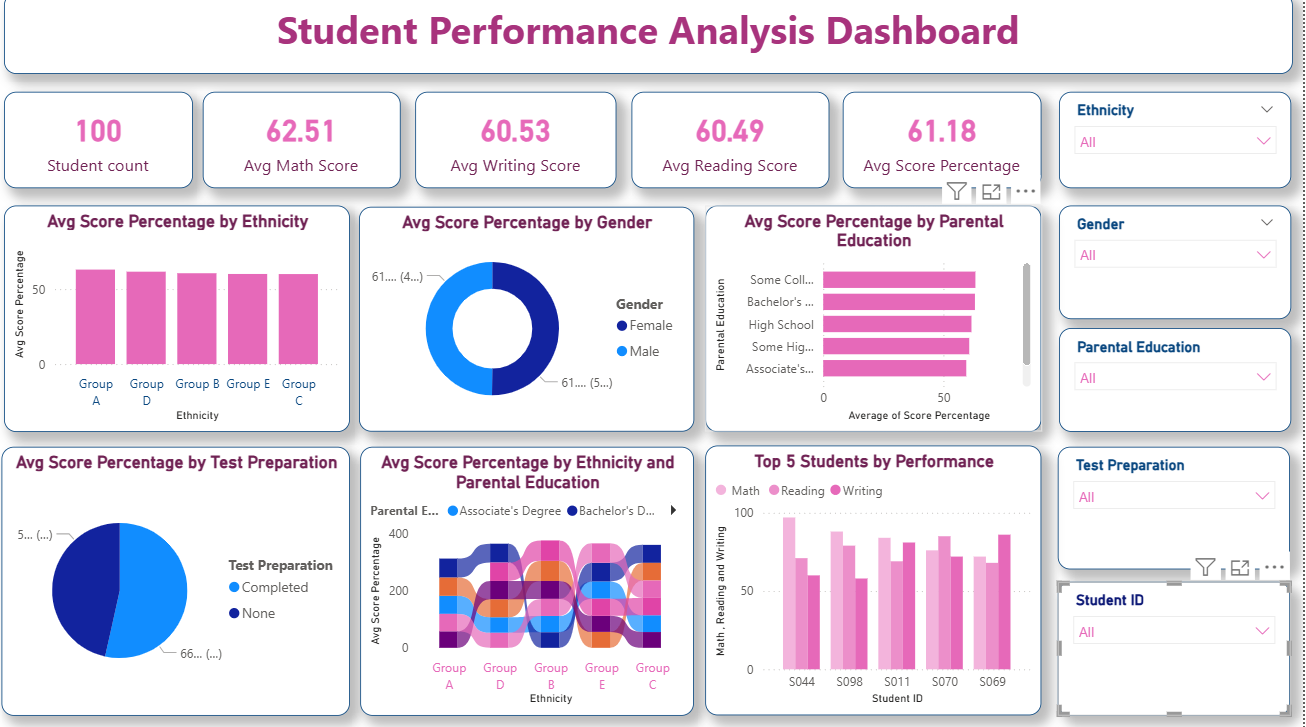

What the dashboard file says about the page in this screenshot:
{"tool":"powerbi","page":{"name":"Page 1","canvas":[1280,720],"ordinal":0},"visuals":[{"type":"textbox","box":[9.6,0,1261.1,79.6],"z":0},{"type":"card","fields":{"Values":["CountNonNull(marks.Student ID)"]},"box":[9.8,96.6,184.6,94.2],"z":1000},{"type":"card","fields":{"Values":["Avg(marks.Math Score)"]},"box":[204.2,96.6,193.2,94.2],"z":2000},{"type":"card","fields":{"Values":["Avg(marks.Writing Score)"]},"box":[412.1,96.6,196.9,94.2],"z":3000},{"type":"card","fields":{"Values":["Avg(marks.Reading Score)"]},"box":[623.6,96.6,193.2,94.2],"z":4000},{"type":"card","fields":{"Values":["Avg(marks.Score Percentage)"]},"box":[830.3,96.6,194.4,94.2],"z":5000},{"type":"slicer","fields":{"Values":["marks.Ethnicity"]},"box":[1041.9,96.6,227.4,94.2],"z":6000},{"type":"slicer","fields":{"Values":["marks.Gender"]},"box":[1041.9,207.9,227.4,111.3],"z":7000},{"type":"slicer","fields":{"Values":["marks.Parental Education"]},"box":[1041.9,327.7,227.4,101.5],"z":9000},{"type":"columnChart","fields":{"Category":["marks.Ethnicity"],"Y":["Avg(marks.Score Percentage)"]},"box":[9.8,207.9,338.7,221.3],"z":10000},{"type":"donutChart","title":"Avg Score Percentage by Gender","fields":{"Category":["marks.Gender"],"Y":["Avg(marks.Score Percentage)"]},"box":[357.1,209.1,327.7,220.1],"z":11000},{"type":"clusteredBarChart","title":"Avg Score Percentage by Parental Education","fields":{"Category":["marks.Parental Education"],"Y":["Avg(marks.Score Percentage)"]},"box":[695.8,207.9,328.9,221.3],"z":12000},{"type":"pieChart","title":"Avg Score Percentage by Test Preparation","fields":{"Category":["marks.Test Preparation"],"Y":["Avg(marks.Score Percentage)"]},"box":[7.3,443.9,341.2,262.9],"z":13000},{"type":"ribbonChart","fields":{"Category":["marks.Ethnicity"],"Y":["Avg(marks.Score Percentage)"],"Series":["marks.Parental Education"]},"box":[358.3,443.9,326.5,262.9],"z":14000},{"type":"slicer","fields":{"Values":["marks.Test Preparation"]},"box":[1040.6,443.9,227.4,119.8],"z":15000},{"type":"clusteredColumnChart","title":"Top 5 Students by Performance","fields":{"Y":["Avg(marks.Math Score)","Avg(marks.Reading Score)","Avg(marks.Writing Score)"],"Category":["marks.Student ID"]},"box":[695.8,442.7,328.9,264.1],"z":16000},{"type":"slicer","fields":{"Values":["marks.Student ID"]},"box":[1040.6,576,227.4,130.8],"z":17000}]}

Visuals, with their boxes in screenshot pixels (x1, y1, x2, y2), scaled from the page's 1280x720 canvas onto the 1306x727 screenshot:
textbox: Rect(10, 0, 1297, 80)
card - CountNonNull(marks.Student ID): Rect(10, 98, 198, 193)
card - Avg(marks.Math Score): Rect(208, 98, 405, 193)
card - Avg(marks.Writing Score): Rect(420, 98, 621, 193)
card - Avg(marks.Reading Score): Rect(636, 98, 833, 193)
card - Avg(marks.Score Percentage): Rect(847, 98, 1046, 193)
slicer - marks.Ethnicity: Rect(1063, 98, 1295, 193)
slicer - marks.Gender: Rect(1063, 210, 1295, 322)
slicer - marks.Parental Education: Rect(1063, 331, 1295, 433)
columnChart - marks.Ethnicity x Avg(marks.Score Percentage): Rect(10, 210, 356, 433)
"Avg Score Percentage by Gender" donutChart: Rect(364, 211, 699, 433)
"Avg Score Percentage by Parental Education" clusteredBarChart: Rect(710, 210, 1046, 433)
"Avg Score Percentage by Test Preparation" pieChart: Rect(7, 448, 356, 714)
ribbonChart - marks.Ethnicity x Avg(marks.Score Percentage): Rect(366, 448, 699, 714)
slicer - marks.Test Preparation: Rect(1062, 448, 1294, 569)
"Top 5 Students by Performance" clusteredColumnChart: Rect(710, 447, 1046, 714)
slicer - marks.Student ID: Rect(1062, 582, 1294, 714)
